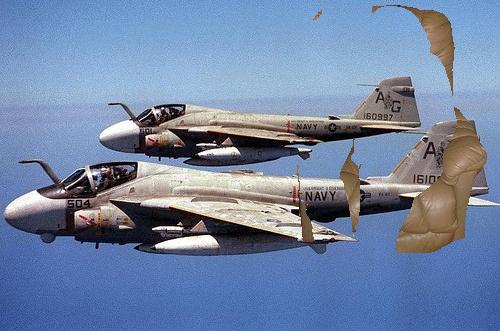tampered: (298, 6, 487, 253)
